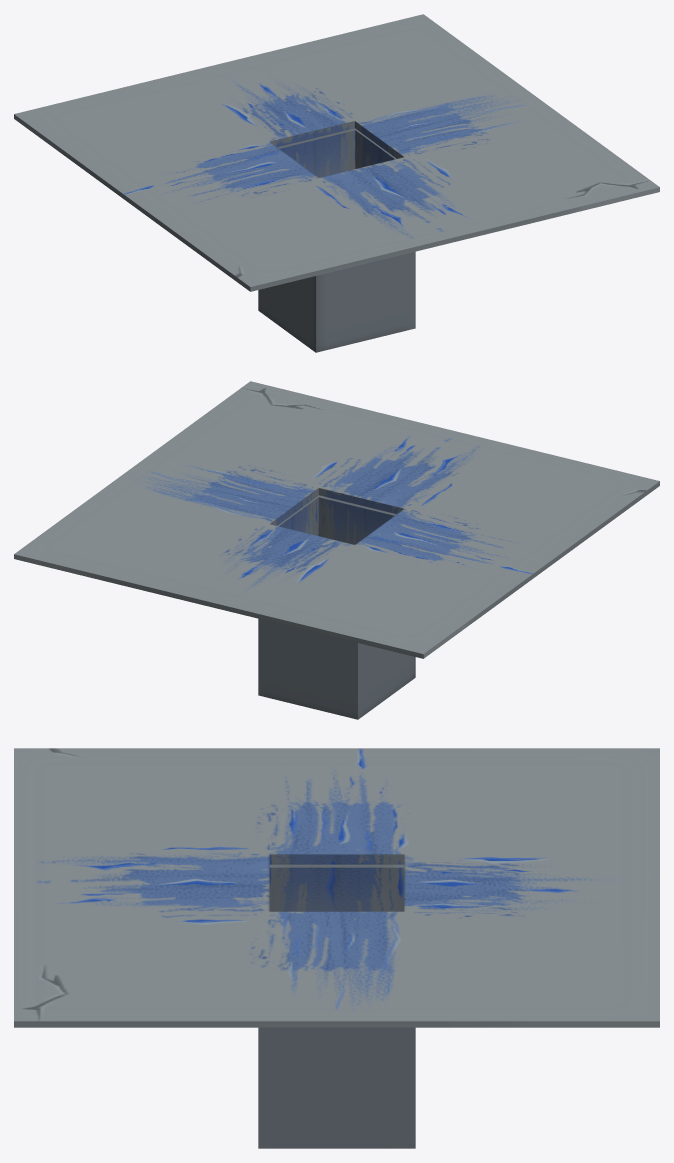
File: kvadrat rupa plava.fbx
3 views of the same model, one above another, from view 1: azimuth 30°, elevation 25°; view 2: azimuth 150°, elevation 25°; view 3: azimuth 270°, elevation 25° (orthographic). The views are drawn at different scales.
Visible parts, largest first — view 1: Cube.009, Cube.001; view 2: Cube.009, Cube.001; view 3: Cube.009, Cube.001.
Part boxes in pixels (x1=…): Cube.009: x1=14, y1=14, x2=659, y2=291; Cube.001: x1=258, y1=128, x2=415, y2=352; Cube.009: x1=14, y1=381, x2=659, y2=658; Cube.001: x1=258, y1=495, x2=415, y2=719; Cube.009: x1=14, y1=748, x2=659, y2=1027; Cube.001: x1=258, y1=864, x2=415, y2=1148.
Size of the model in its own units: 600 by 238 by 600.
